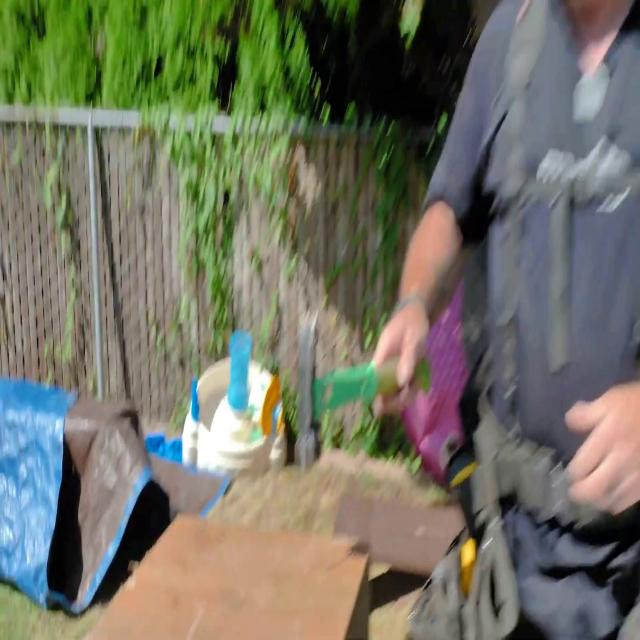hammer: (295, 309, 431, 472)
